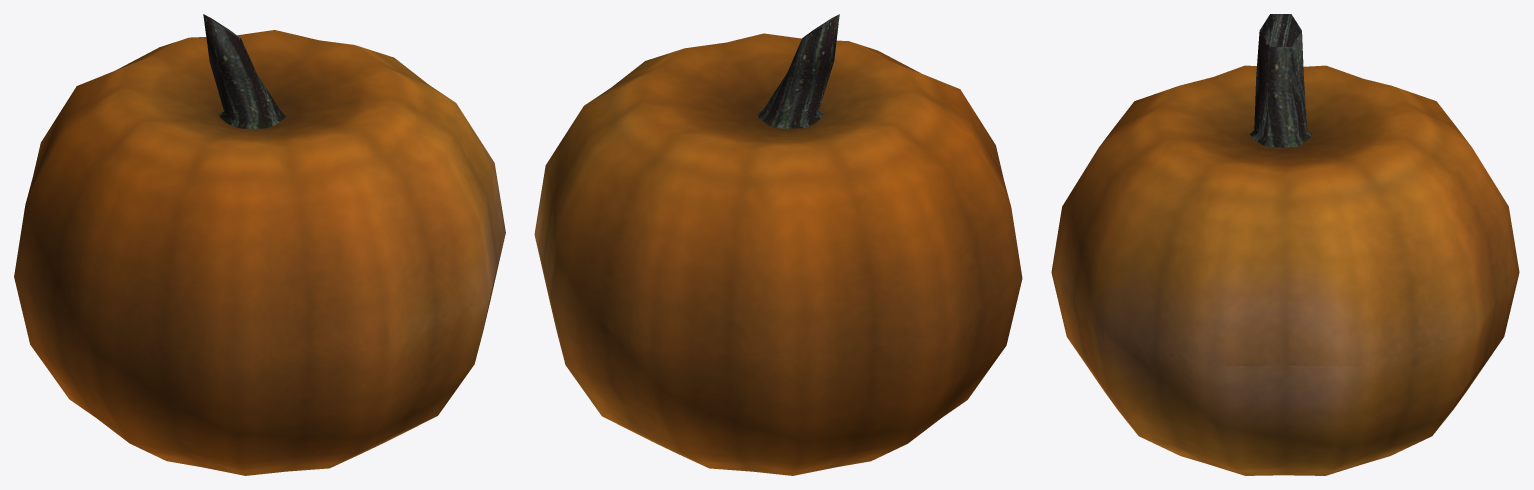
The model's file is pumpkin.fbx.
3 renders of one model, left to right at view 1: azimuth 30°, elevation 25°; view 2: azimuth 150°, elevation 25°; view 3: azimuth 270°, elevation 25°, orthographic. The views are drawn at different scales.
Parts seen in each view (by area): view 1: pumpkin; view 2: pumpkin; view 3: pumpkin.
Part boxes in pixels (left/top/right/bottom): pumpkin: left=14, top=14, right=505, bottom=475; pumpkin: left=534, top=14, right=1022, bottom=475; pumpkin: left=1051, top=14, right=1519, bottom=475.
Size of the model in its own units: 1.98 by 1.9 by 2.08.
